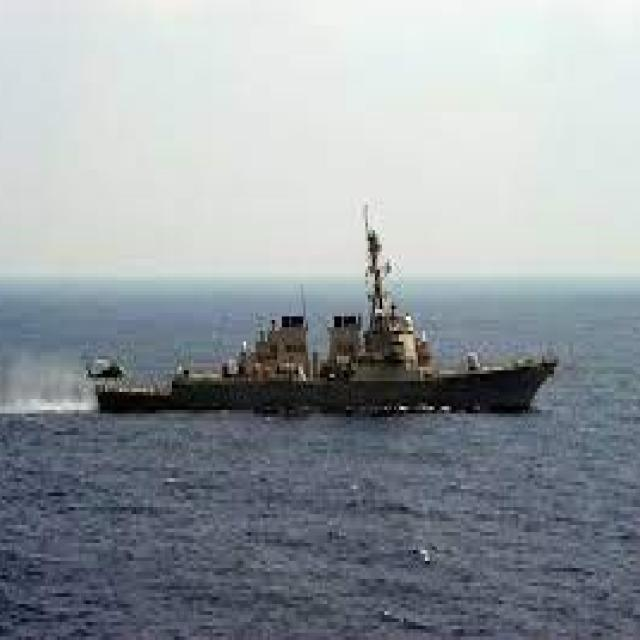navalvessels: (79, 185, 558, 438)
